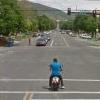Motorcycle: (40, 65, 70, 93)
